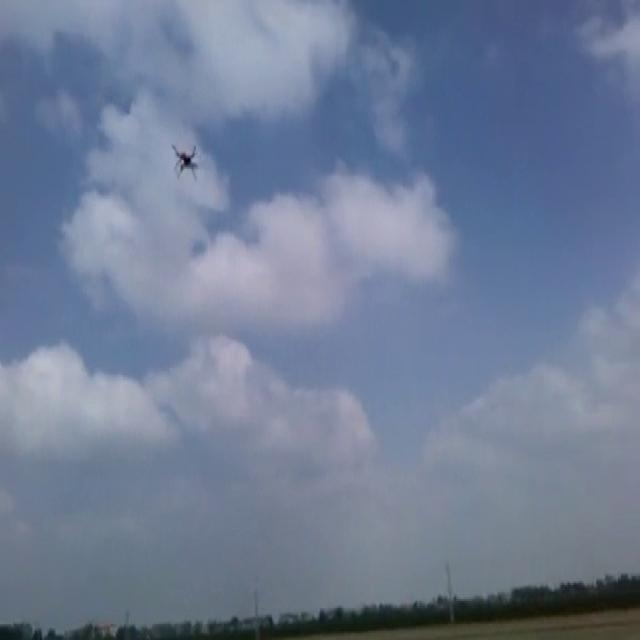drone: (168, 139, 200, 181)
